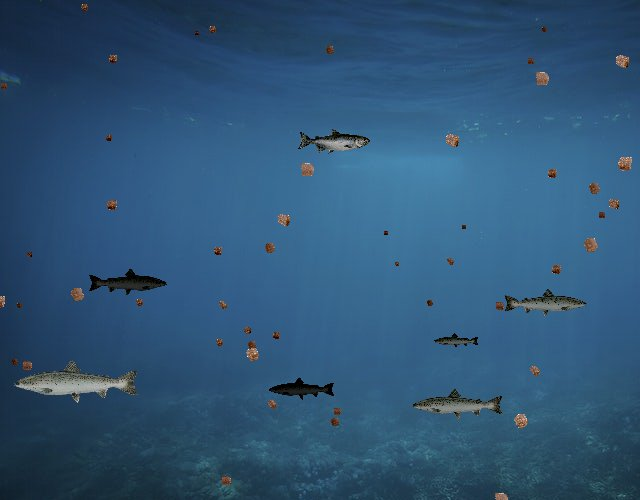Fish: (12, 358, 141, 404), (411, 388, 505, 421), (502, 287, 588, 318), (87, 267, 168, 296), (297, 128, 370, 155), (269, 376, 337, 401), (433, 333, 480, 349)
Pellet: (610, 149, 640, 178), (238, 340, 266, 368), (270, 207, 297, 234), (76, 0, 92, 15), (538, 23, 551, 36), (23, 249, 35, 261)
